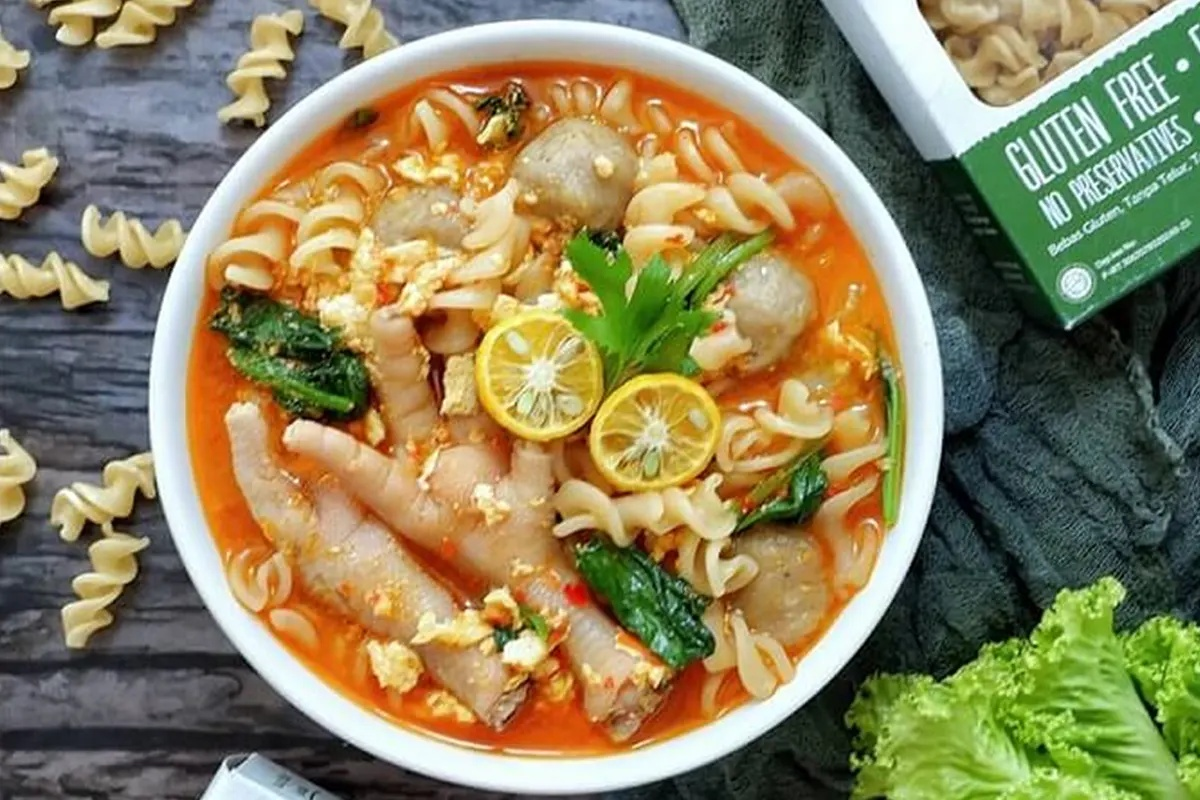seblak: (189, 58, 911, 761)
